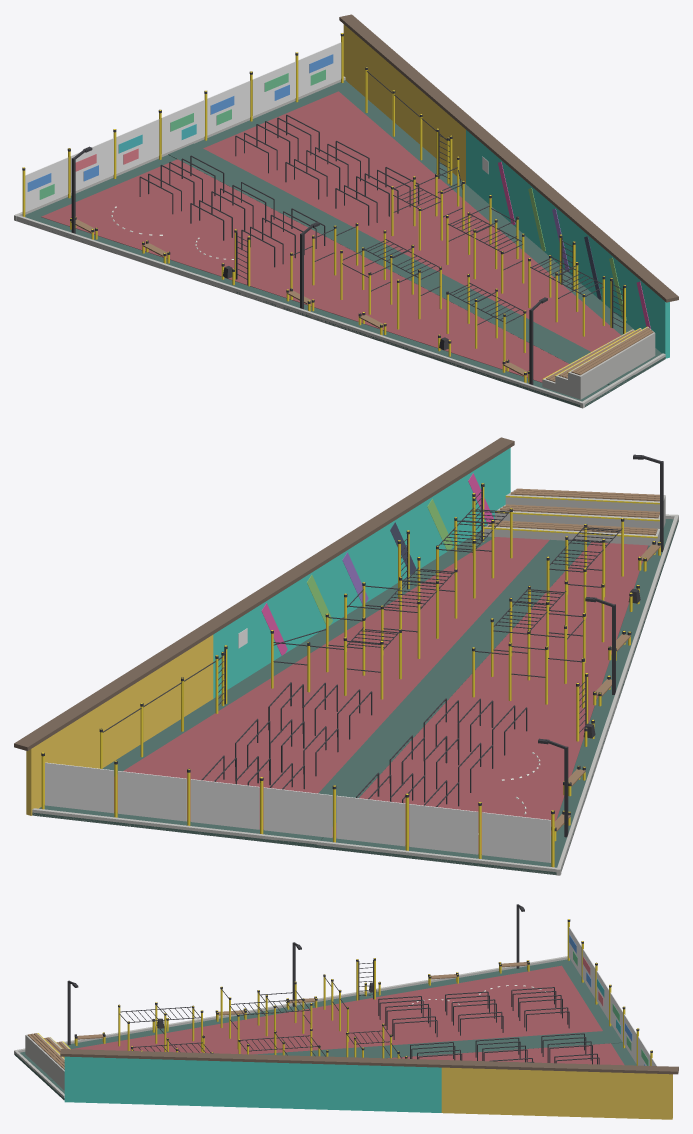
3 views of the same model, one above another, from view 1: azimuth 30°, elevation 25°; view 2: azimuth 150°, elevation 25°; view 3: azimuth 270°, elevation 25° (orthographic). The views are drawn at different scales.
Visible parts, largest first — view 1: base; view 2: base; view 3: base.
Part boxes in pixels (left/top/right/bottom): base: left=14, top=14, right=678, bottom=408; base: left=14, top=437, right=678, bottom=875; base: left=14, top=904, right=678, bottom=1119.
Size of the model in its own units: 23.18 by 4.61 by 39.92.
